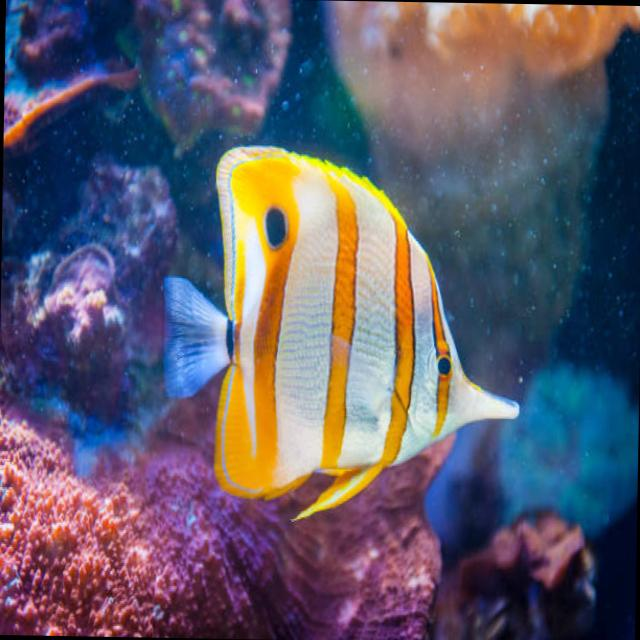ButterflyFish: (164, 145, 527, 522)
